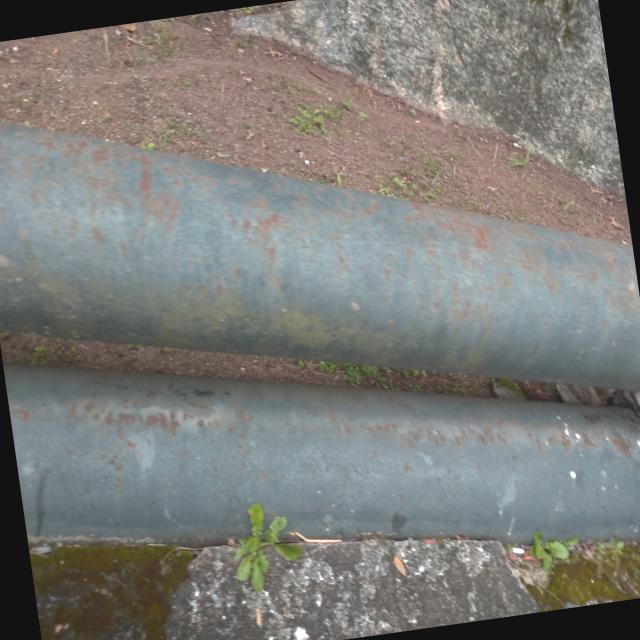gas: (0, 118, 640, 395), (16, 359, 640, 539)
